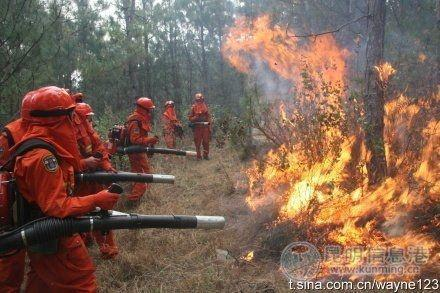fire: (215, 10, 434, 276)
